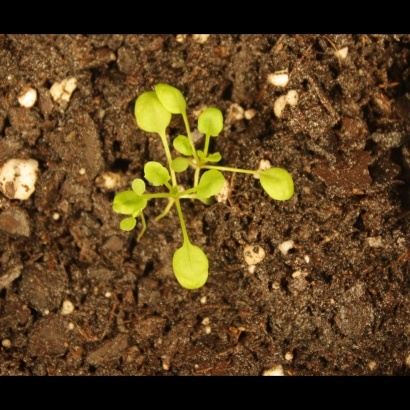leaf: (171, 241, 213, 292), (131, 88, 173, 136), (259, 162, 297, 208), (195, 101, 233, 139), (153, 76, 188, 116), (109, 187, 149, 220), (193, 166, 228, 203), (140, 159, 175, 188), (170, 134, 197, 158), (196, 144, 223, 167), (118, 214, 141, 237), (126, 178, 149, 201), (170, 152, 193, 175)
